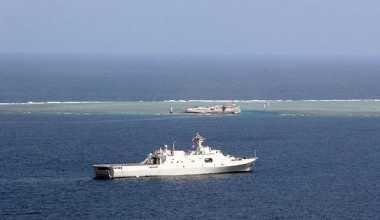warship: (89, 130, 262, 184)
